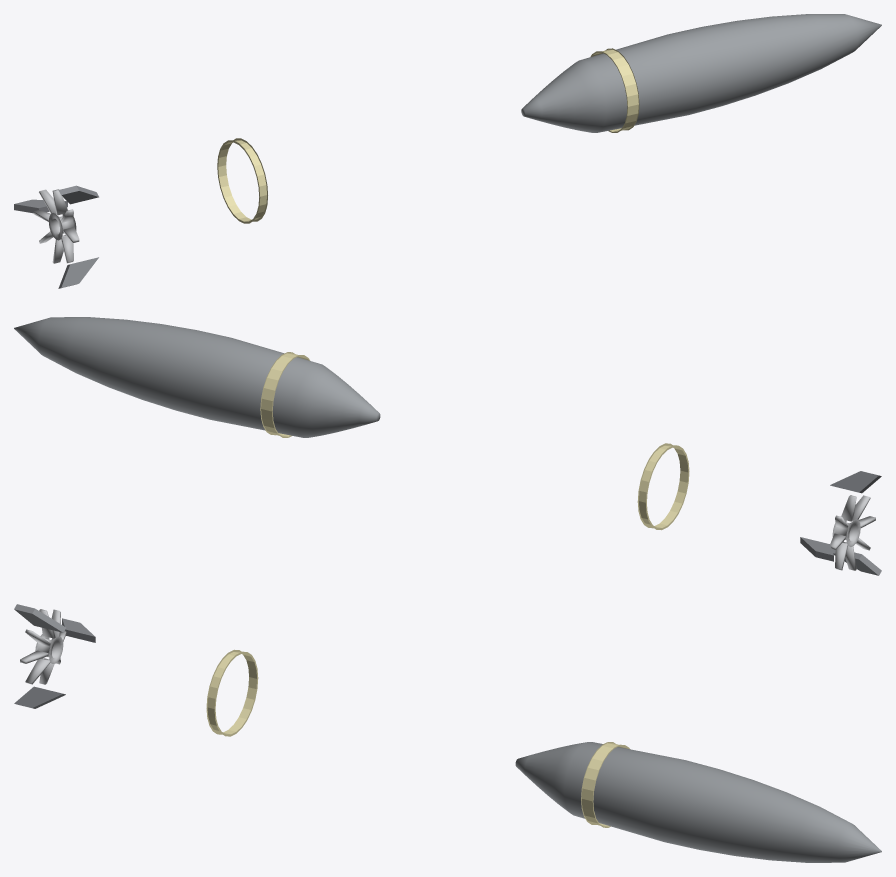
Rendered from US_TORP_Mk18_LOD1.fbx.
3 views of the same model, one above another, from view 1: azimuth 30°, elevation 25°; view 2: azimuth 150°, elevation 25°; view 3: azimuth 330°, elevation 25° (orthographic).
Visible parts, largest first — view 1: WPN_US_TORP_Mk18_LOD1_Body, WPN_US_TORP_Mk18_LOD1_Marking, WPN_US_TORP_Mk18_LOD1_Propulsor, WPN_US_TORP_Mk18_LOD1_Fins; view 2: WPN_US_TORP_Mk18_LOD1_Body, WPN_US_TORP_Mk18_LOD1_Marking, WPN_US_TORP_Mk18_LOD1_Propulsor, WPN_US_TORP_Mk18_LOD1_Fins; view 3: WPN_US_TORP_Mk18_LOD1_Body, WPN_US_TORP_Mk18_LOD1_Marking, WPN_US_TORP_Mk18_LOD1_Fins, WPN_US_TORP_Mk18_LOD1_Propulsor.
Boxes of the visible parts, box(x1,y1,x2,y2) form: WPN_US_TORP_Mk18_LOD1_Body: box(521, 14, 881, 132); WPN_US_TORP_Mk18_LOD1_Marking: box(217, 48, 639, 223); WPN_US_TORP_Mk18_LOD1_Propulsor: box(33, 189, 79, 263); WPN_US_TORP_Mk18_LOD1_Fins: box(14, 185, 98, 288); WPN_US_TORP_Mk18_LOD1_Body: box(14, 317, 380, 437); WPN_US_TORP_Mk18_LOD1_Marking: box(260, 352, 689, 530); WPN_US_TORP_Mk18_LOD1_Propulsor: box(830, 495, 875, 570); WPN_US_TORP_Mk18_LOD1_Fins: box(800, 471, 881, 575); WPN_US_TORP_Mk18_LOD1_Body: box(515, 742, 881, 862); WPN_US_TORP_Mk18_LOD1_Marking: box(206, 649, 629, 827); WPN_US_TORP_Mk18_LOD1_Fins: box(14, 604, 95, 708); WPN_US_TORP_Mk18_LOD1_Propulsor: box(20, 609, 66, 684).
Size of the model in its own units: 6.17 by 0.6644 by 0.6967.
